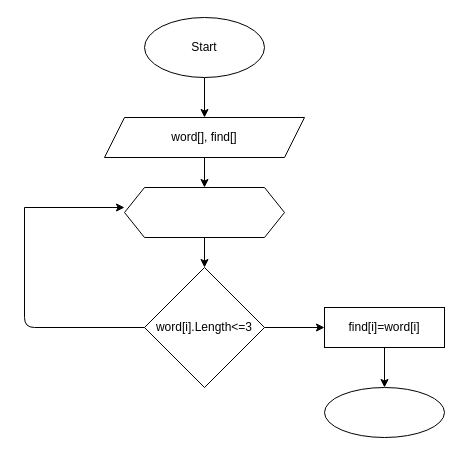
The diagram is 462 pixels wide and 455 high, and some of its shapes have lost their labels. Each missing label, with the centre of its shape:
End: pixel 384 412
i=0 , i < word.Length, i+1: pixel 204 212
